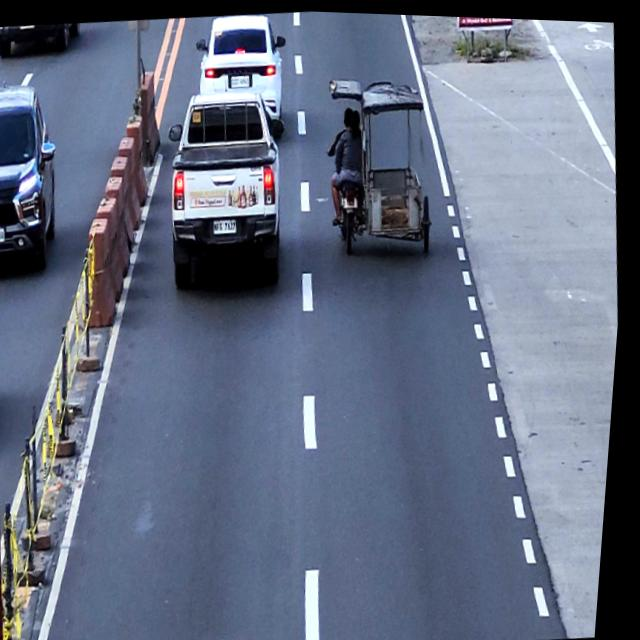Car: (157, 84, 303, 293), (0, 78, 73, 276), (189, 8, 295, 137), (0, 268, 6, 417)
License-Plate: (215, 216, 240, 233), (230, 71, 251, 87), (346, 194, 361, 205), (0, 226, 10, 242)
Tricycle: (320, 67, 446, 262)
